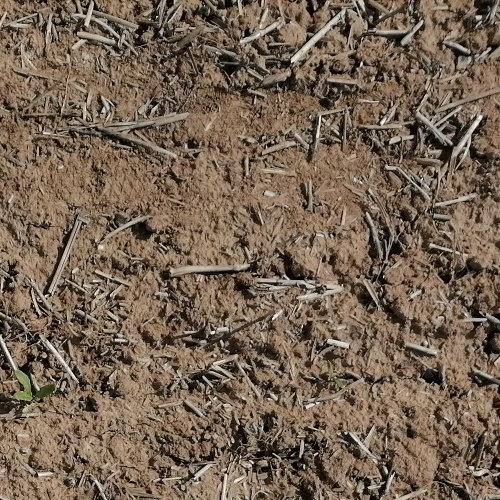beet: (11, 367, 57, 403)
